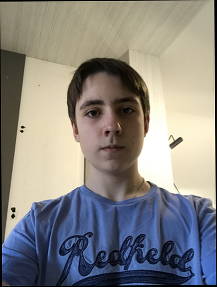without_mask: (77, 92, 145, 176)
